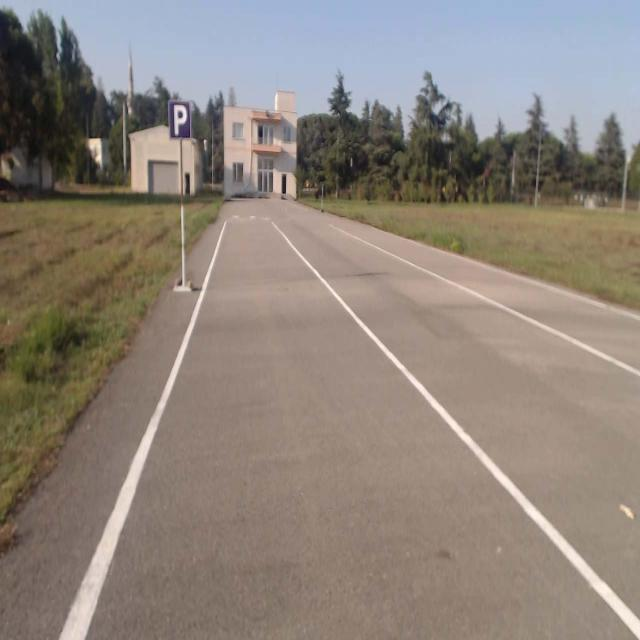park: (169, 102, 192, 139)
